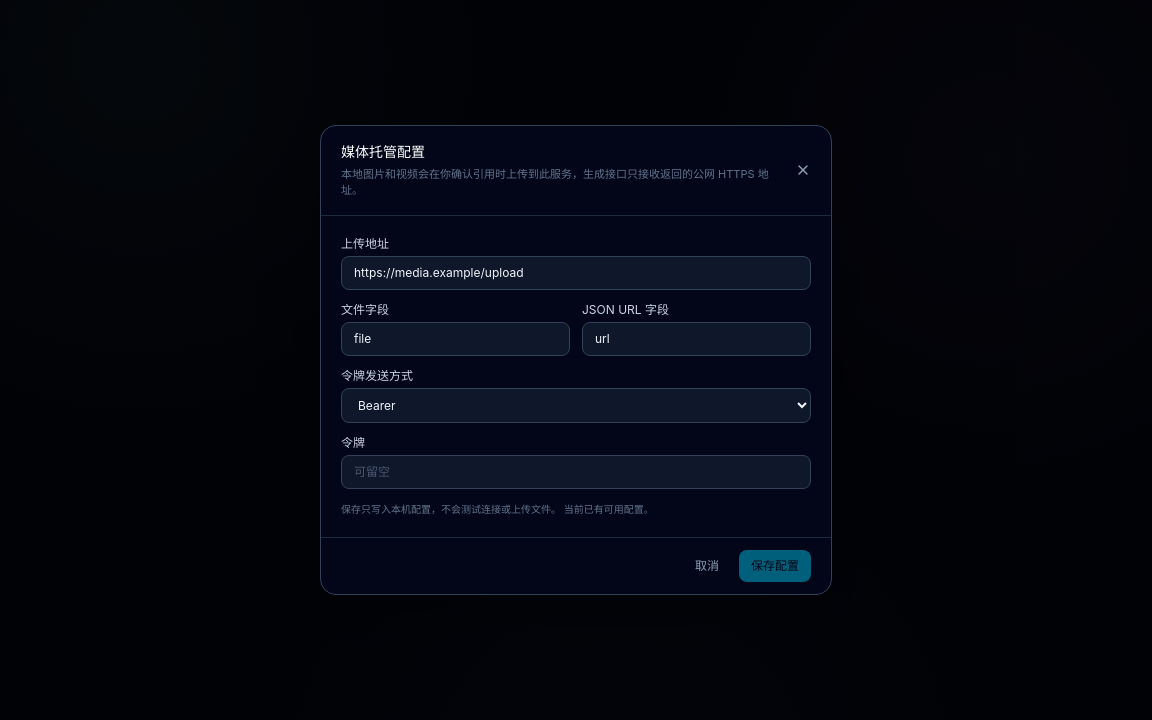
Test: keeps the form locked until the current setup is read, and saves only changes
Expected: the text "正在读取当前配置…" is shown, x1=341 y1=503 x2=654 y2=515
Expected: the button "保存配置" is disabled, x1=739 y1=550 x2=811 y2=582
Type "secret" into the password field named "媒体托管令牌".
click(576, 472); type("secret")  # box x1=341 y1=455 x2=811 y2=489
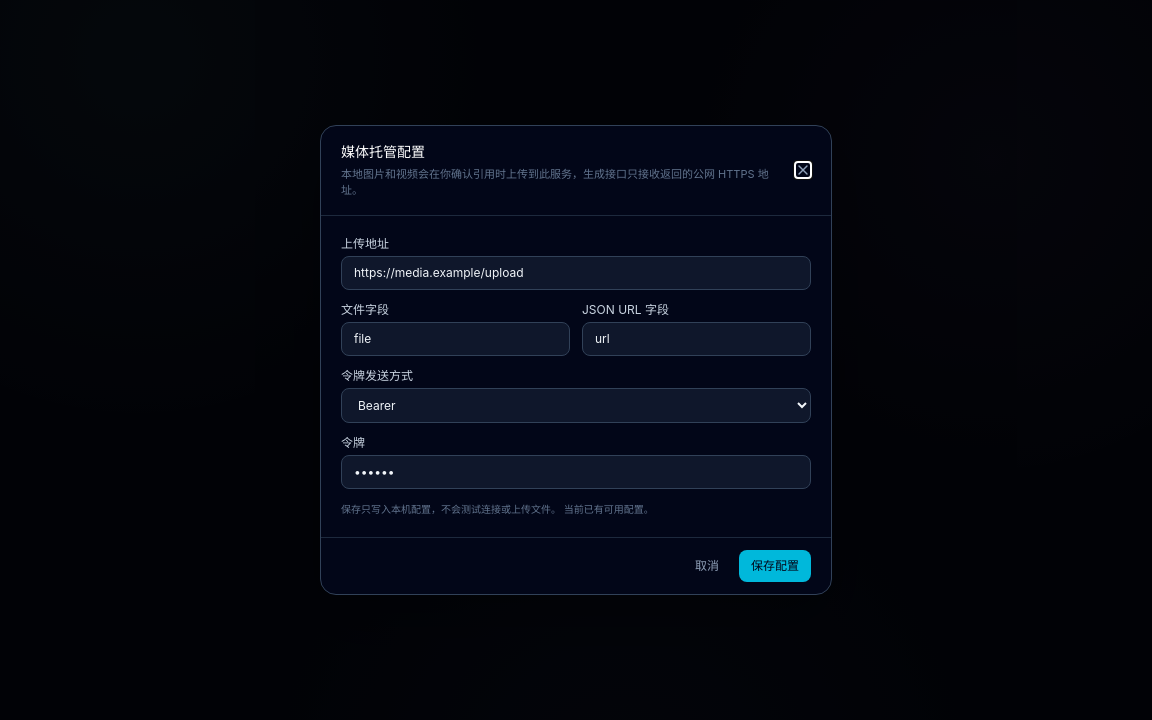
Result: the button "保存配置" is enabled at x1=739 y1=550 x2=811 y2=582
